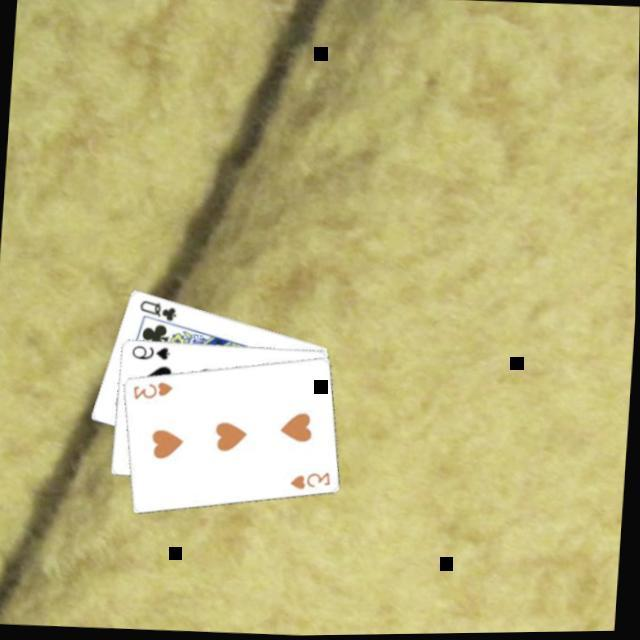3H: (289, 469, 336, 496), (132, 379, 178, 406)
9S: (130, 343, 176, 366)
QC: (138, 298, 182, 327)
